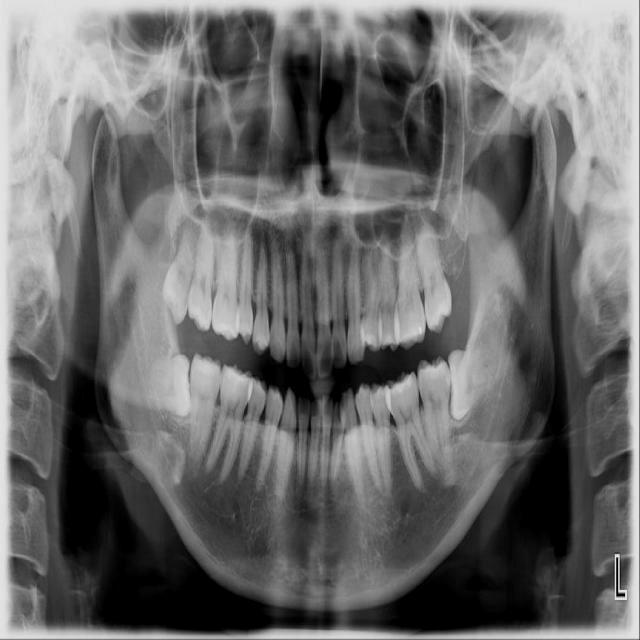impacted tooth: (448, 346, 512, 419), (114, 356, 191, 416)
